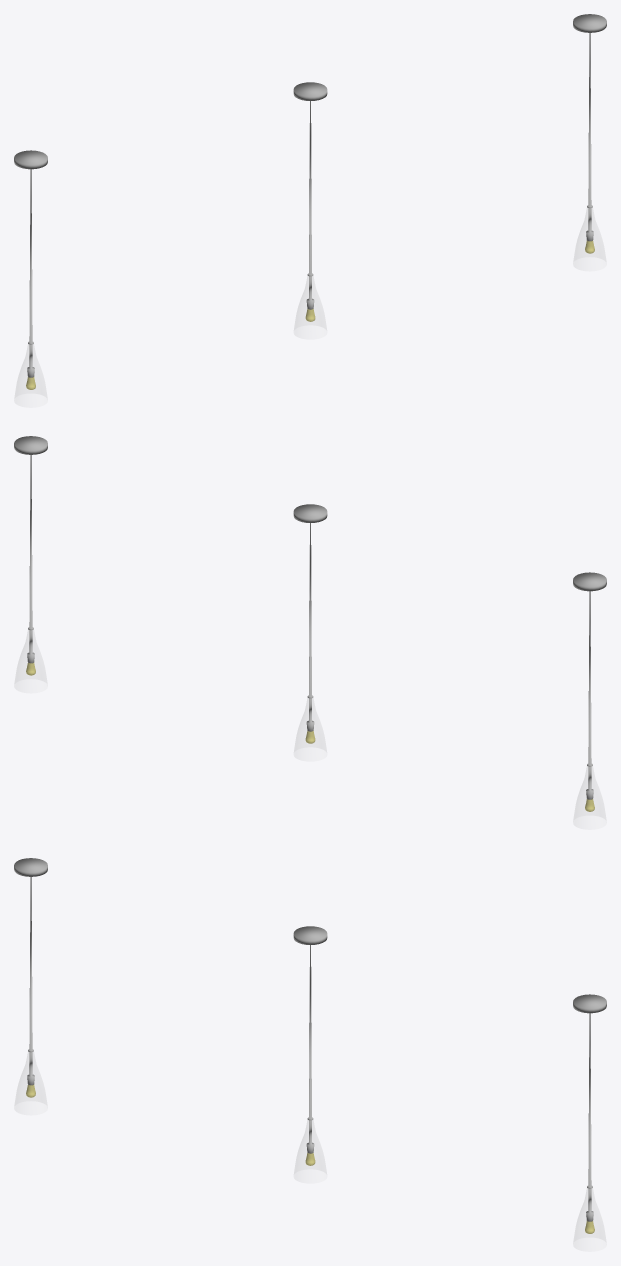
File: Light_ArildaBrushedNickel.glb
3 views of the same model, one above another, from view 1: azimuth 30°, elevation 25°; view 2: azimuth 150°, elevation 25°; view 3: azimuth 330°, elevation 25° (orthographic).
Visible parts, largest first — view 1: Arilda Brushed Nickel; view 2: Arilda Brushed Nickel; view 3: Arilda Brushed Nickel.
Boxes of the visible parts, <box> form: Arilda Brushed Nickel: <box>14,14,606,397</box>; Arilda Brushed Nickel: <box>14,436,606,819</box>; Arilda Brushed Nickel: <box>14,858,606,1241</box>.
Size of the model in its own units: 3.81 by 1.5 by 0.191.
